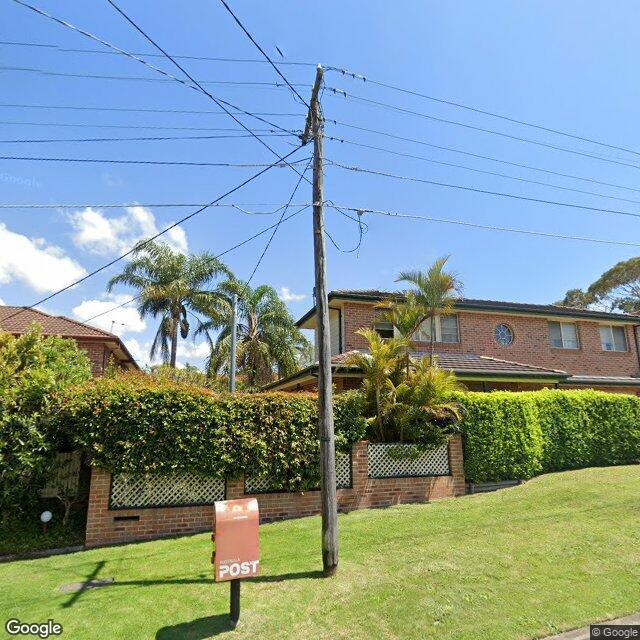crossarm: (300, 66, 324, 148)
steel-pole: (230, 294, 238, 392)
timber-pole: (312, 102, 339, 577)
